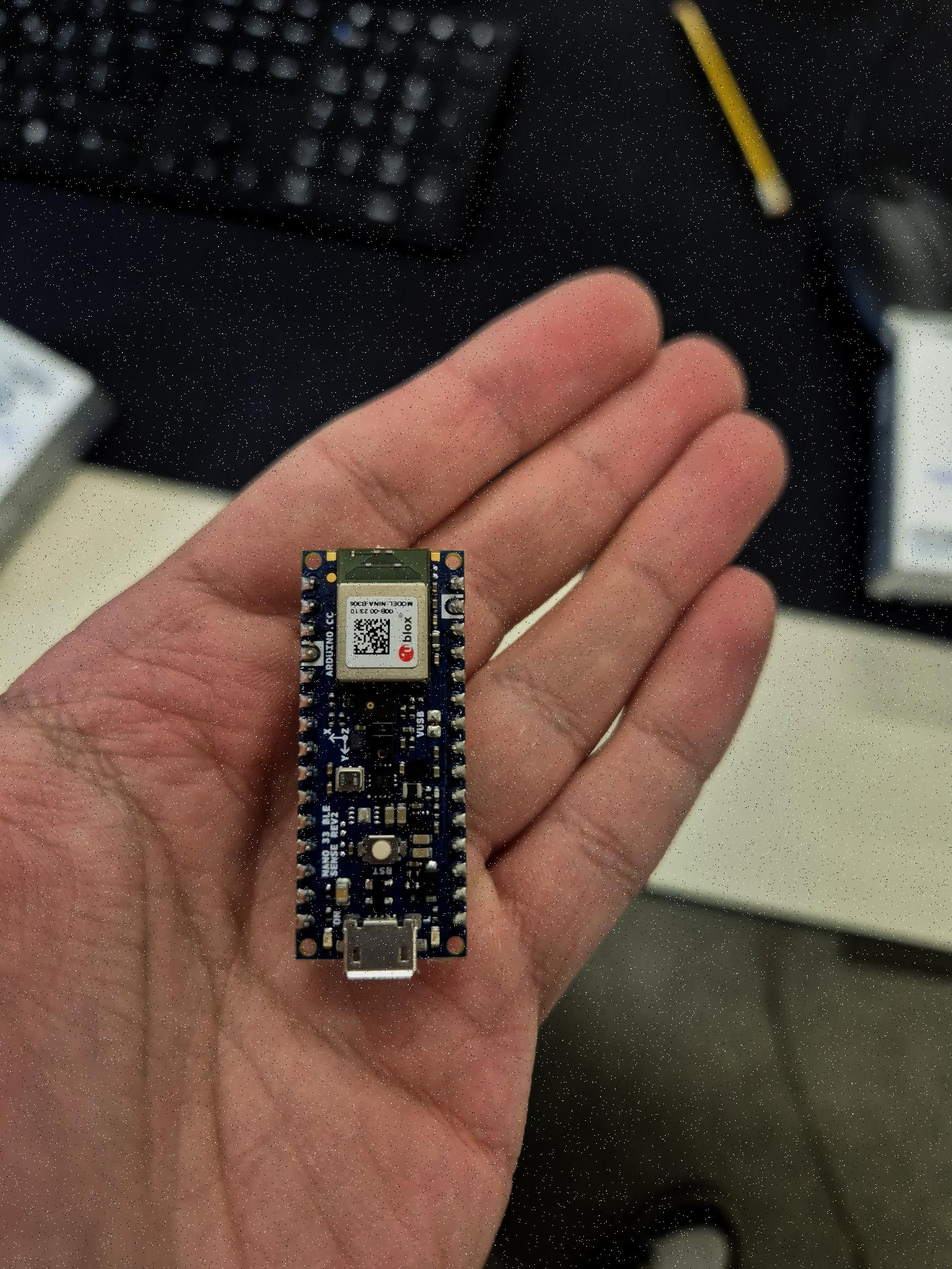arduino-nano-ble-sense: (297, 548, 466, 978)
